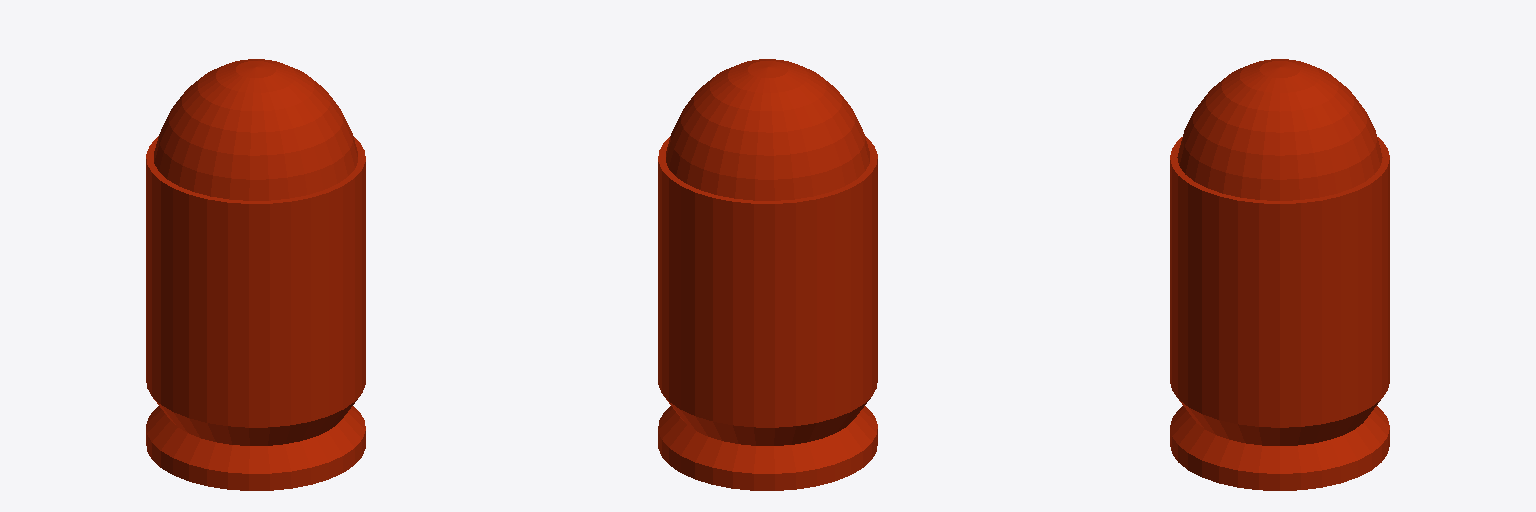
Rendered from bullet2.obj.
3 renders of one model, left to right at view 1: azimuth 30°, elevation 25°; view 2: azimuth 150°, elevation 25°; view 3: azimuth 270°, elevation 25°, orthographic.
Parts seen in each view (by area): view 1: Cylinder, Sphere; view 2: Cylinder, Sphere; view 3: Cylinder, Sphere.
Part boxes in pixels (x1,y1,x2,y2): Cylinder: (146, 136, 365, 490); Sphere: (154, 59, 357, 200); Cylinder: (658, 136, 877, 490); Sphere: (666, 59, 869, 200); Cylinder: (1170, 137, 1389, 490); Sphere: (1177, 59, 1382, 200).
Bounding box in the file's own units: 0.4 × 0.7566 × 0.4.